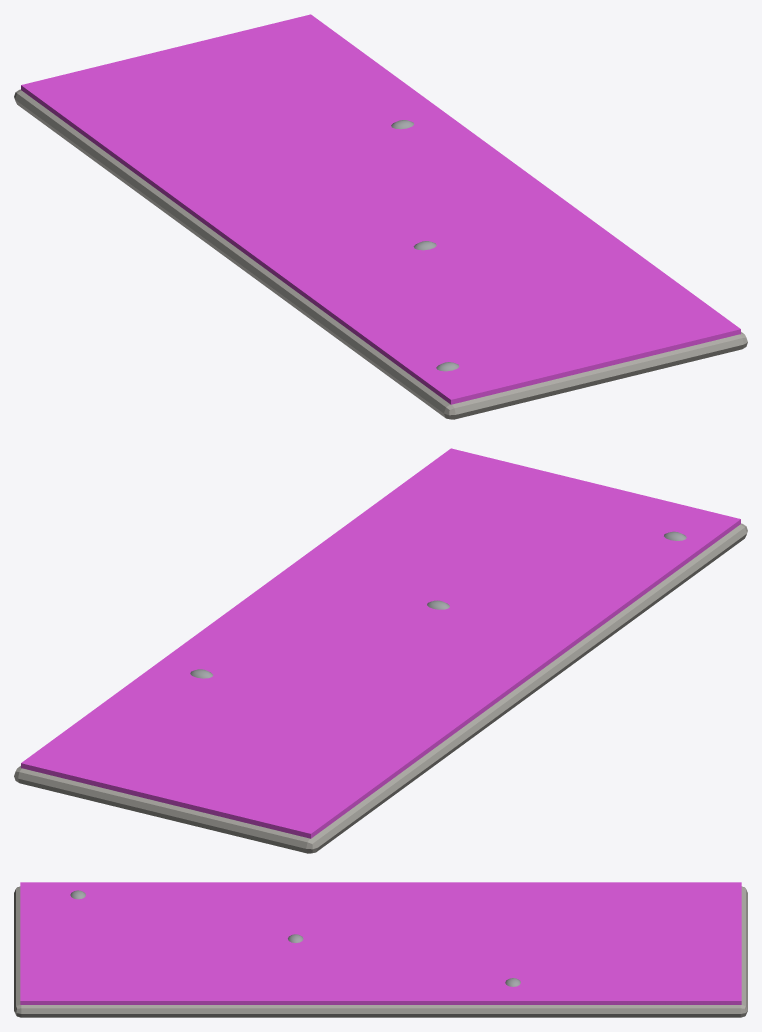
File: forest_path_gravel_straight_lod1_v1.glb
3 renders of one model, top to bottom at view 1: azimuth 30°, elevation 25°; view 2: azimuth 150°, elevation 25°; view 3: azimuth 270°, elevation 25°, orthographic. The views are drawn at different scales.
Parts seen in each view (by area): view 1: NAV_MASK_FOREST_PATH_GRAVEL_STRAIGHT_MAIN, LOD1_FOREST_PATH_GRAVEL_STRAIGHT_Surface; view 2: NAV_MASK_FOREST_PATH_GRAVEL_STRAIGHT_MAIN, LOD1_FOREST_PATH_GRAVEL_STRAIGHT_Surface; view 3: NAV_MASK_FOREST_PATH_GRAVEL_STRAIGHT_MAIN, LOD1_FOREST_PATH_GRAVEL_STRAIGHT_Surface.
Boxes of the visible parts, <box> form: NAV_MASK_FOREST_PATH_GRAVEL_STRAIGHT_MAIN: <box>21,14,740,404</box>; LOD1_FOREST_PATH_GRAVEL_STRAIGHT_Surface: <box>14,89,747,419</box>; NAV_MASK_FOREST_PATH_GRAVEL_STRAIGHT_MAIN: <box>21,448,740,838</box>; LOD1_FOREST_PATH_GRAVEL_STRAIGHT_Surface: <box>14,523,747,853</box>; NAV_MASK_FOREST_PATH_GRAVEL_STRAIGHT_MAIN: <box>20,882,741,1004</box>; LOD1_FOREST_PATH_GRAVEL_STRAIGHT_Surface: <box>14,886,747,1017</box>.
Size of what is drawn, in the model's own units: 3.2 by 0.24 by 8.
